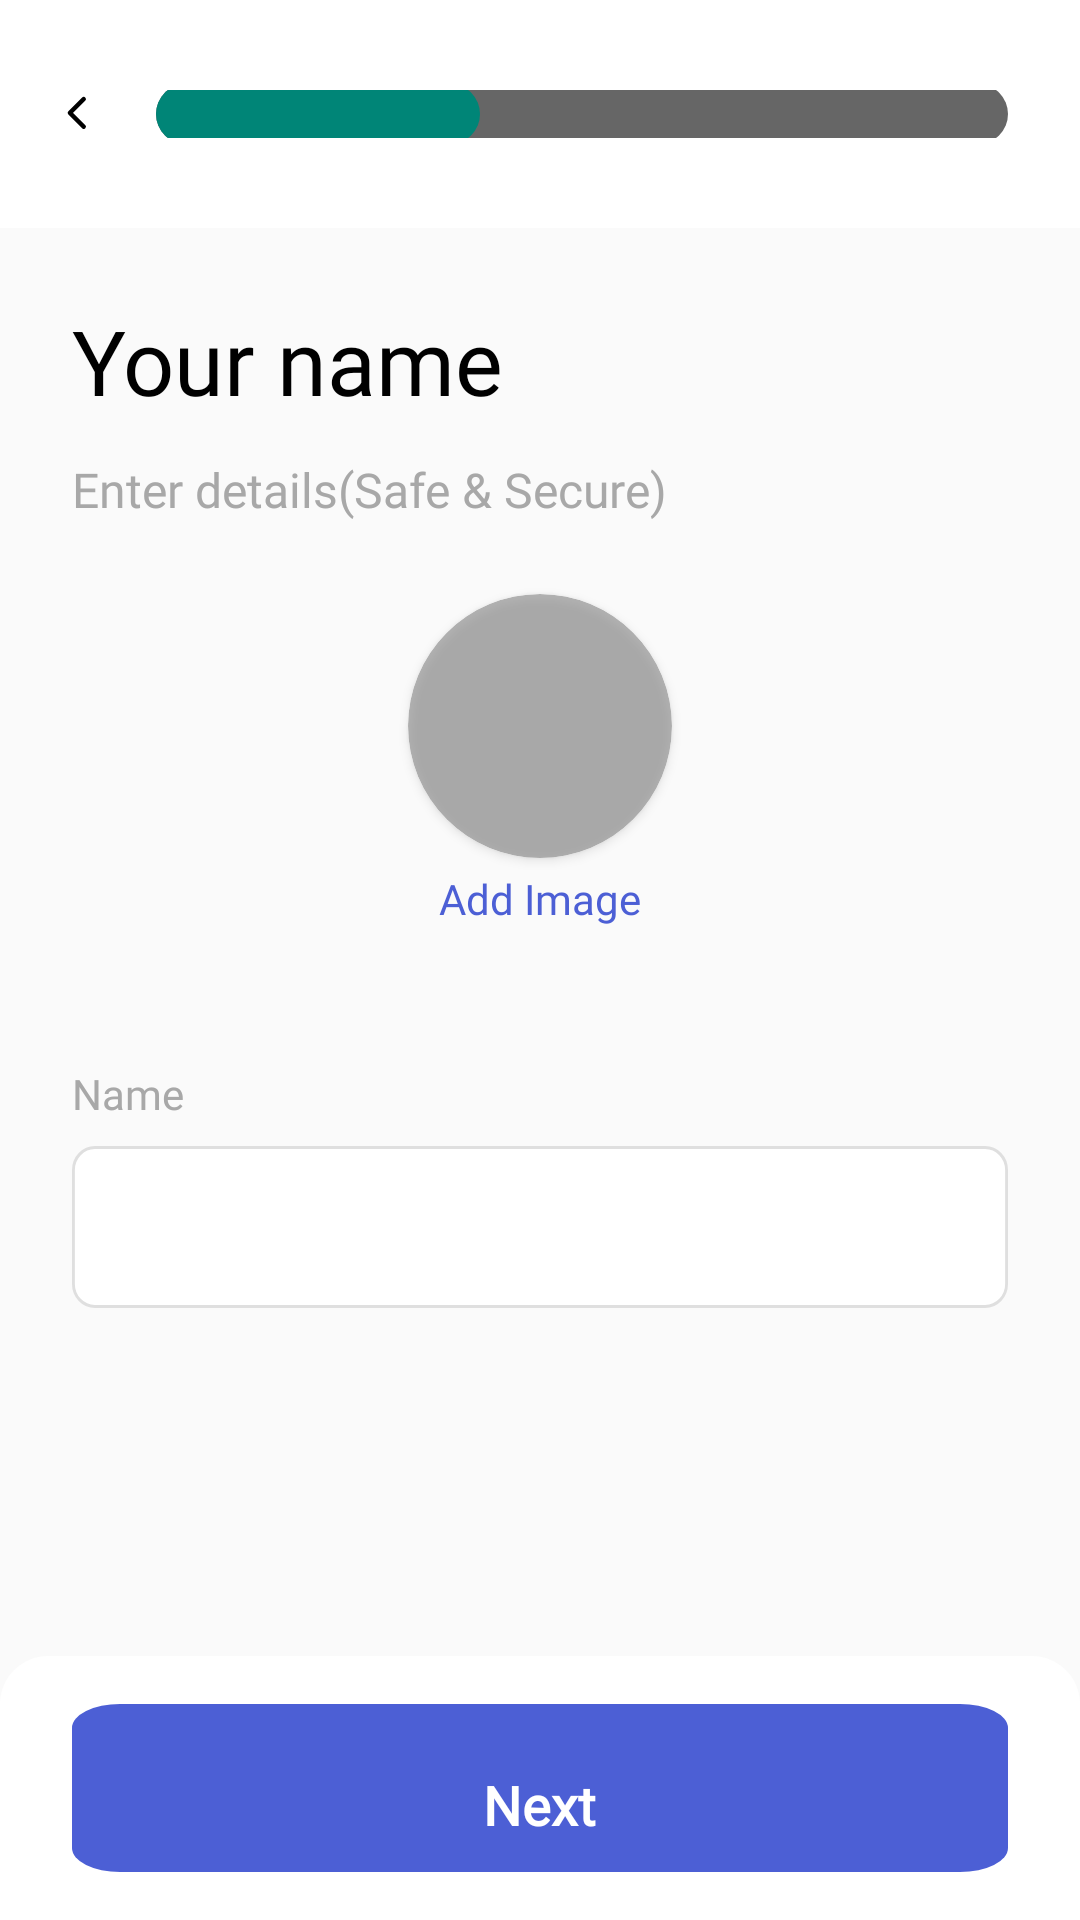

Where to tap for icons on this 1080px x 1920px app screen, as (x,y):
backicon: (76,112)
